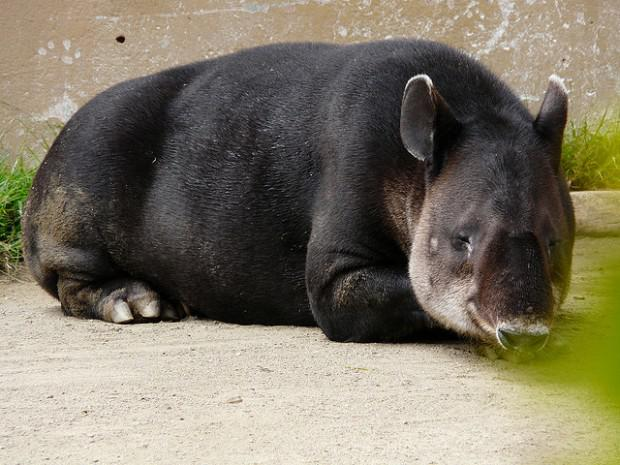Anta: (18, 33, 589, 365)
